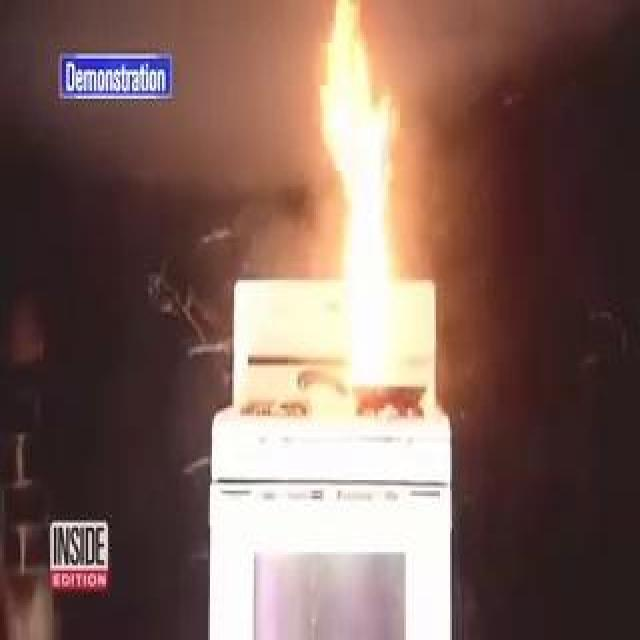Fire: (302, 2, 416, 402)
